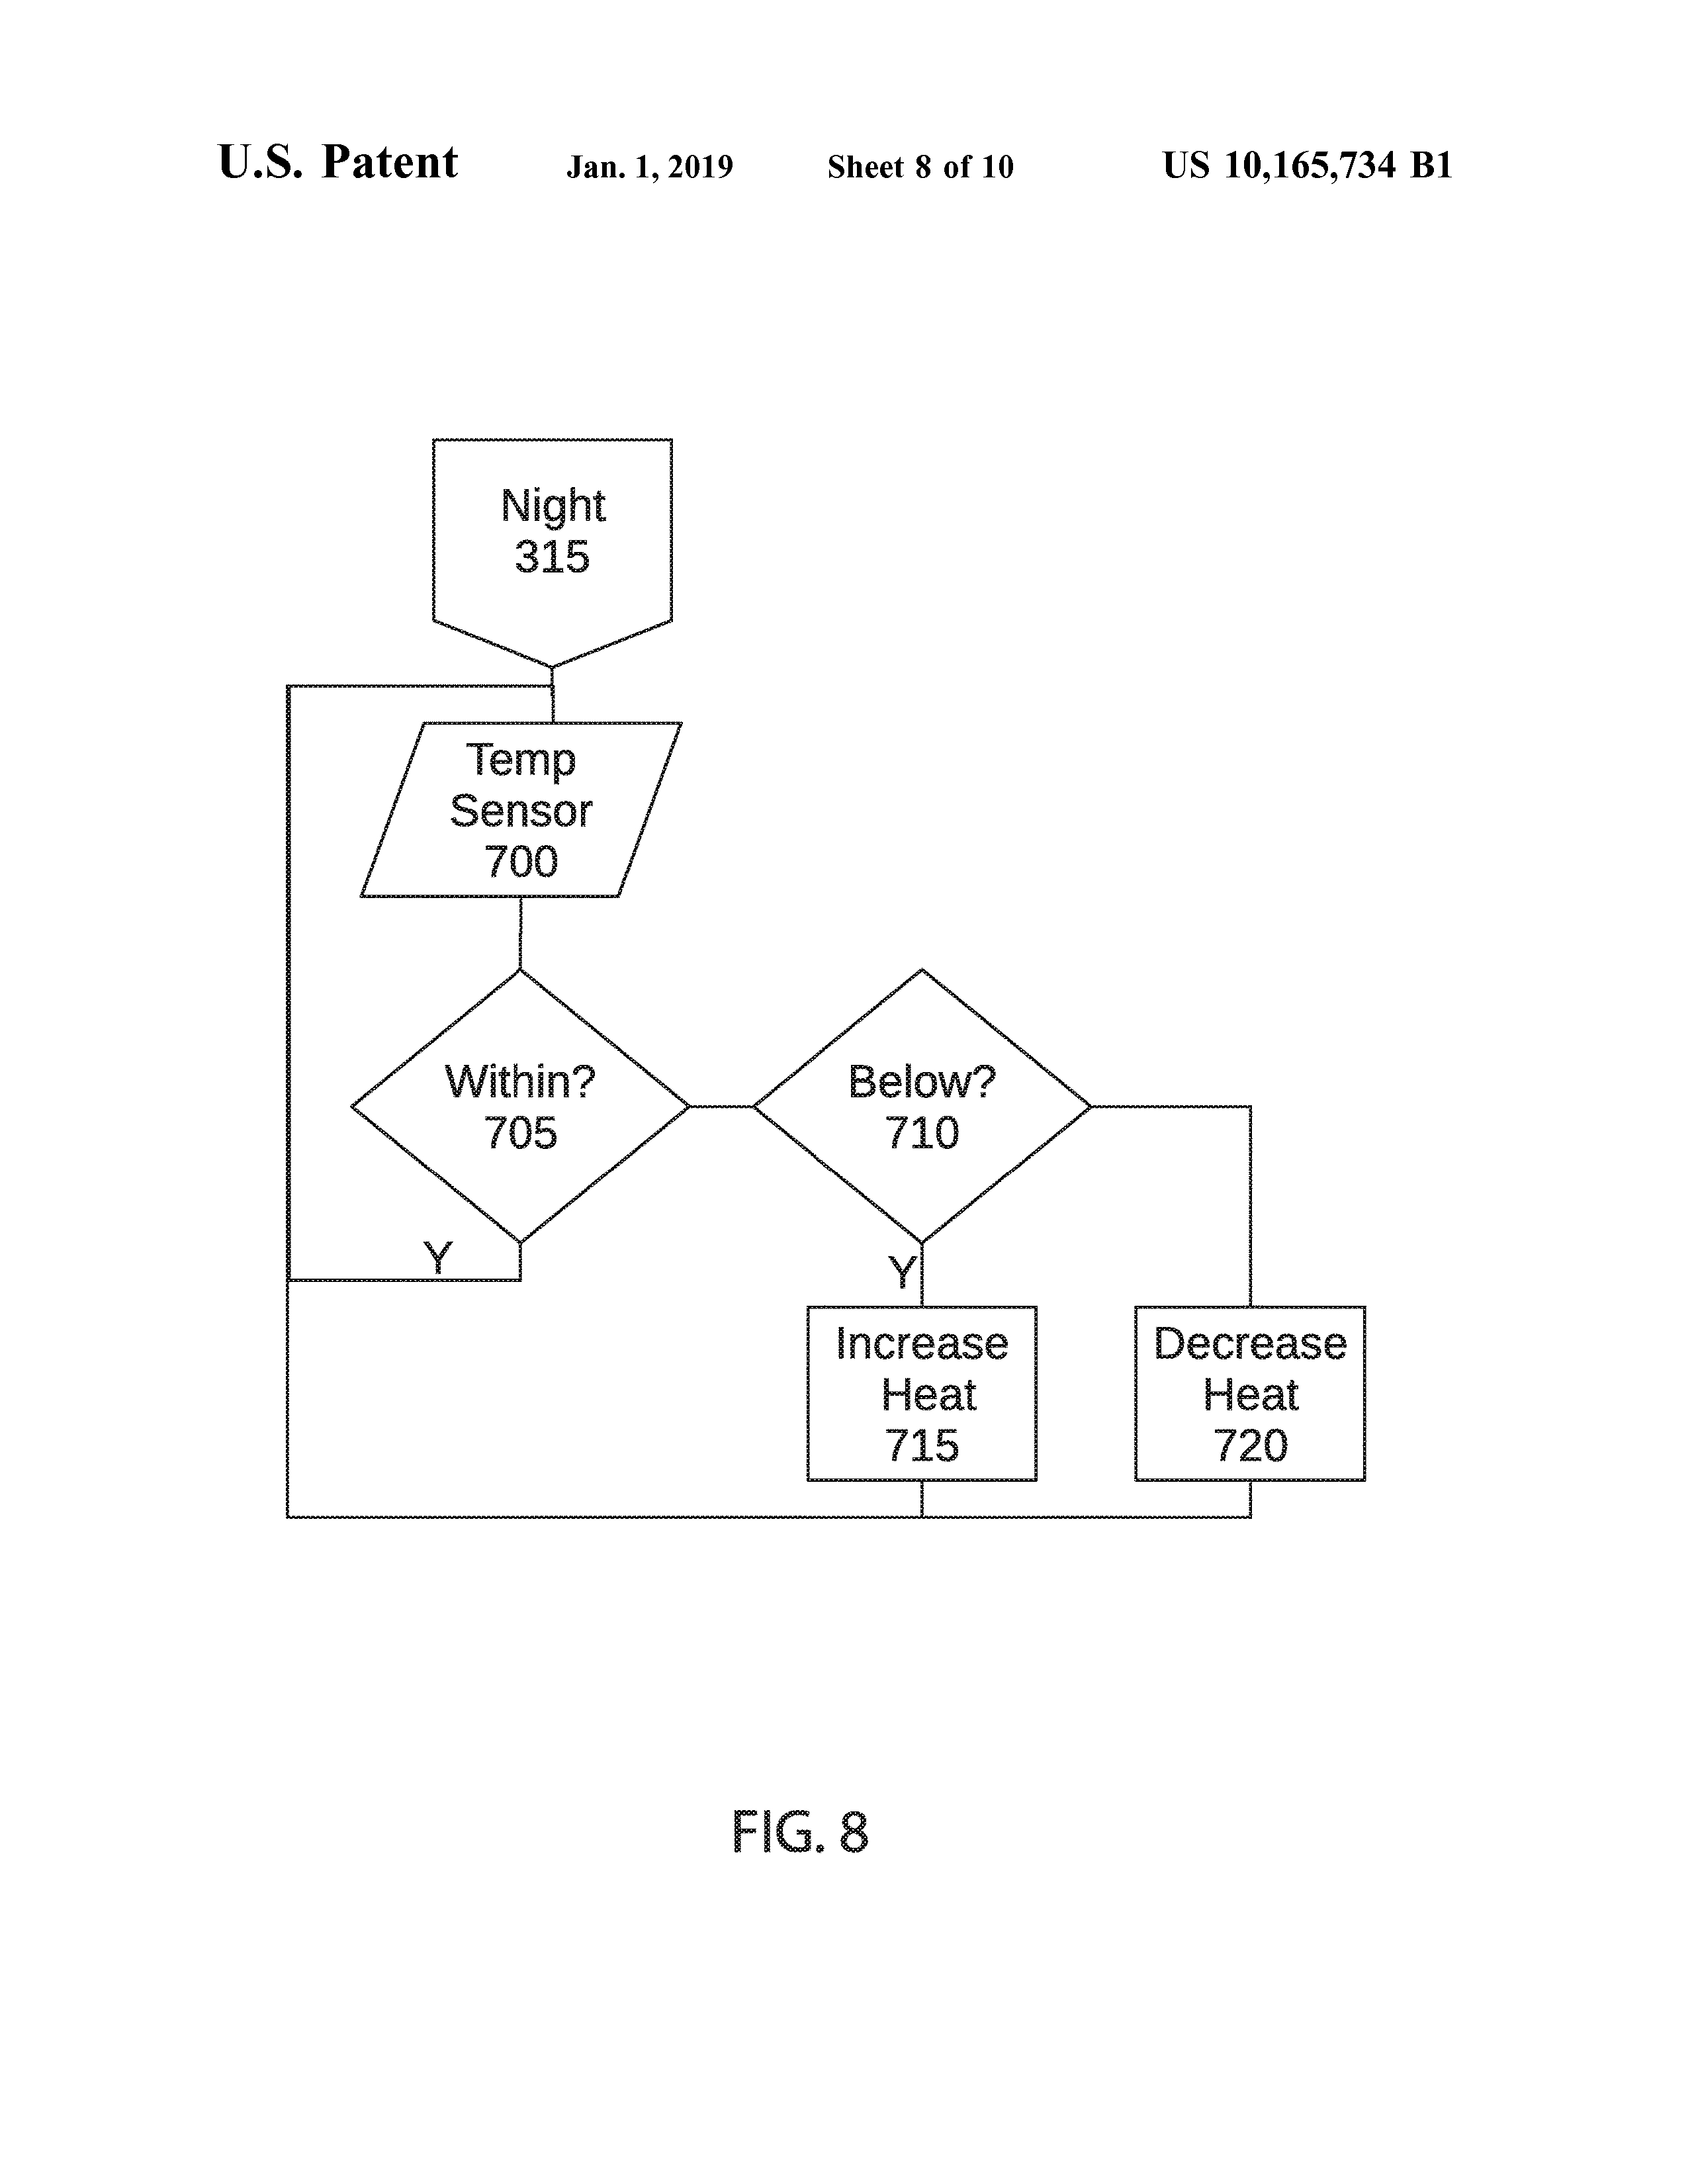patent image: (241, 383, 1417, 1899)
